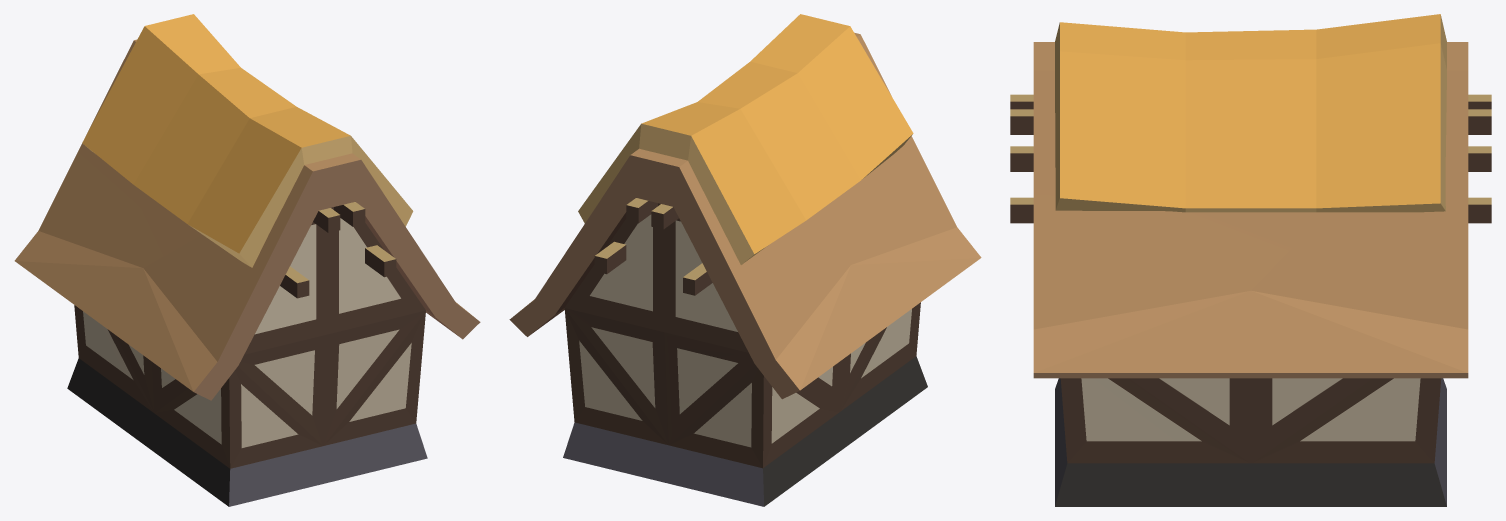
Rendered from cottage.glb.
The picture shows the model from 3 angles, left to right: view 1: azimuth 30°, elevation 25°; view 2: azimuth 150°, elevation 25°; view 3: azimuth 270°, elevation 25°; orthographic projection. The views are drawn at different scales.
Visible parts, largest first — view 1: TB_Bd_House; view 2: TB_Bd_House; view 3: TB_Bd_House.
Boxes of the visible parts, x1=… form: TB_Bd_House: x1=14, y1=14, x2=480, y2=506; TB_Bd_House: x1=509, y1=14, x2=981, y2=506; TB_Bd_House: x1=1010, y1=14, x2=1491, y2=506.
Bounding box in the file's own units: 4.51 × 5.2 × 5.41.
1 material, 1 textured.
